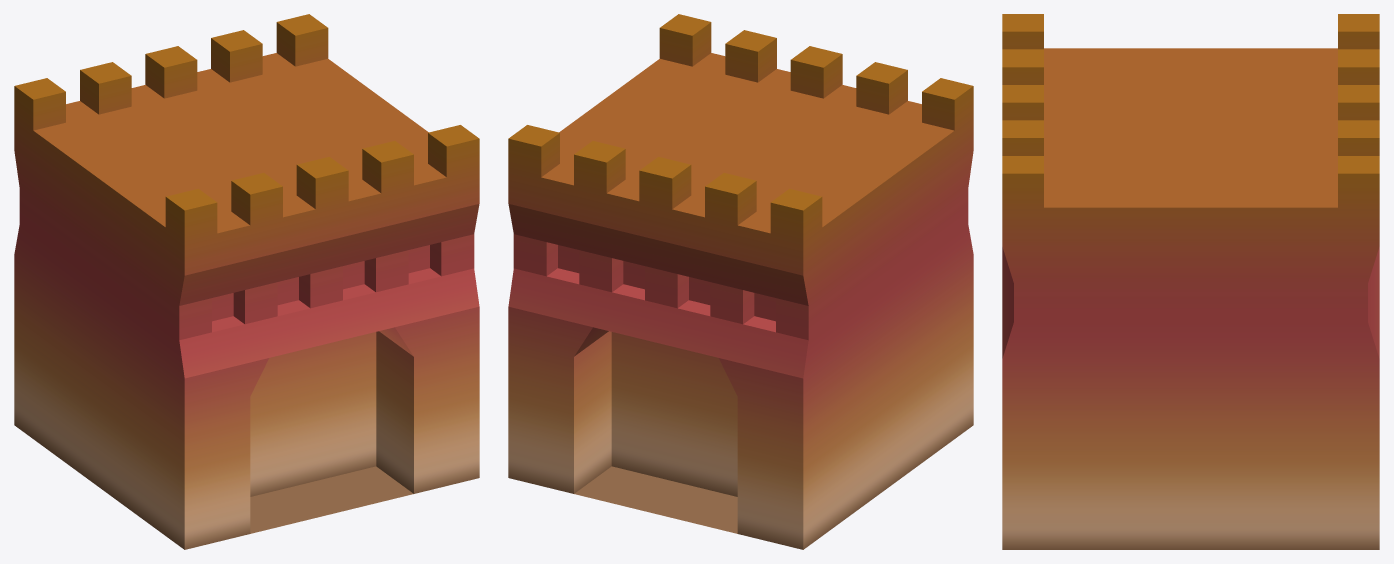
File: fort7.001.fbx
3 views of the same model, side by side, from view 1: azimuth 30°, elevation 25°; view 2: azimuth 150°, elevation 25°; view 3: azimuth 270°, elevation 25° (orthographic). The views are drawn at different scales.
Parts seen in each view (by area): view 1: fort7.001; view 2: fort7.001; view 3: fort7.001.
Part boxes in pixels (x1,y1,x2,y2): fort7.001: (14, 14, 479, 549); fort7.001: (508, 14, 973, 549); fort7.001: (1002, 14, 1379, 549).
Size of the model in its own units: 100 by 110 by 100.
